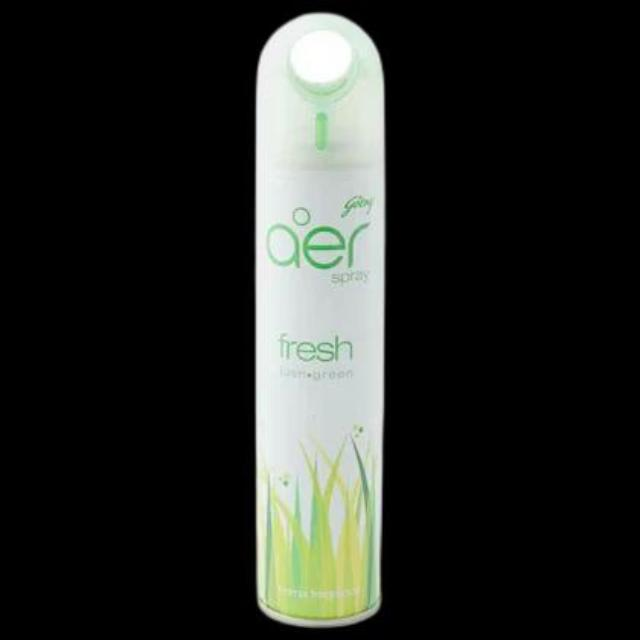Godrej Aer Lush Green Fresh Home Fragrance Spray 220 ml: (246, 4, 392, 632)
